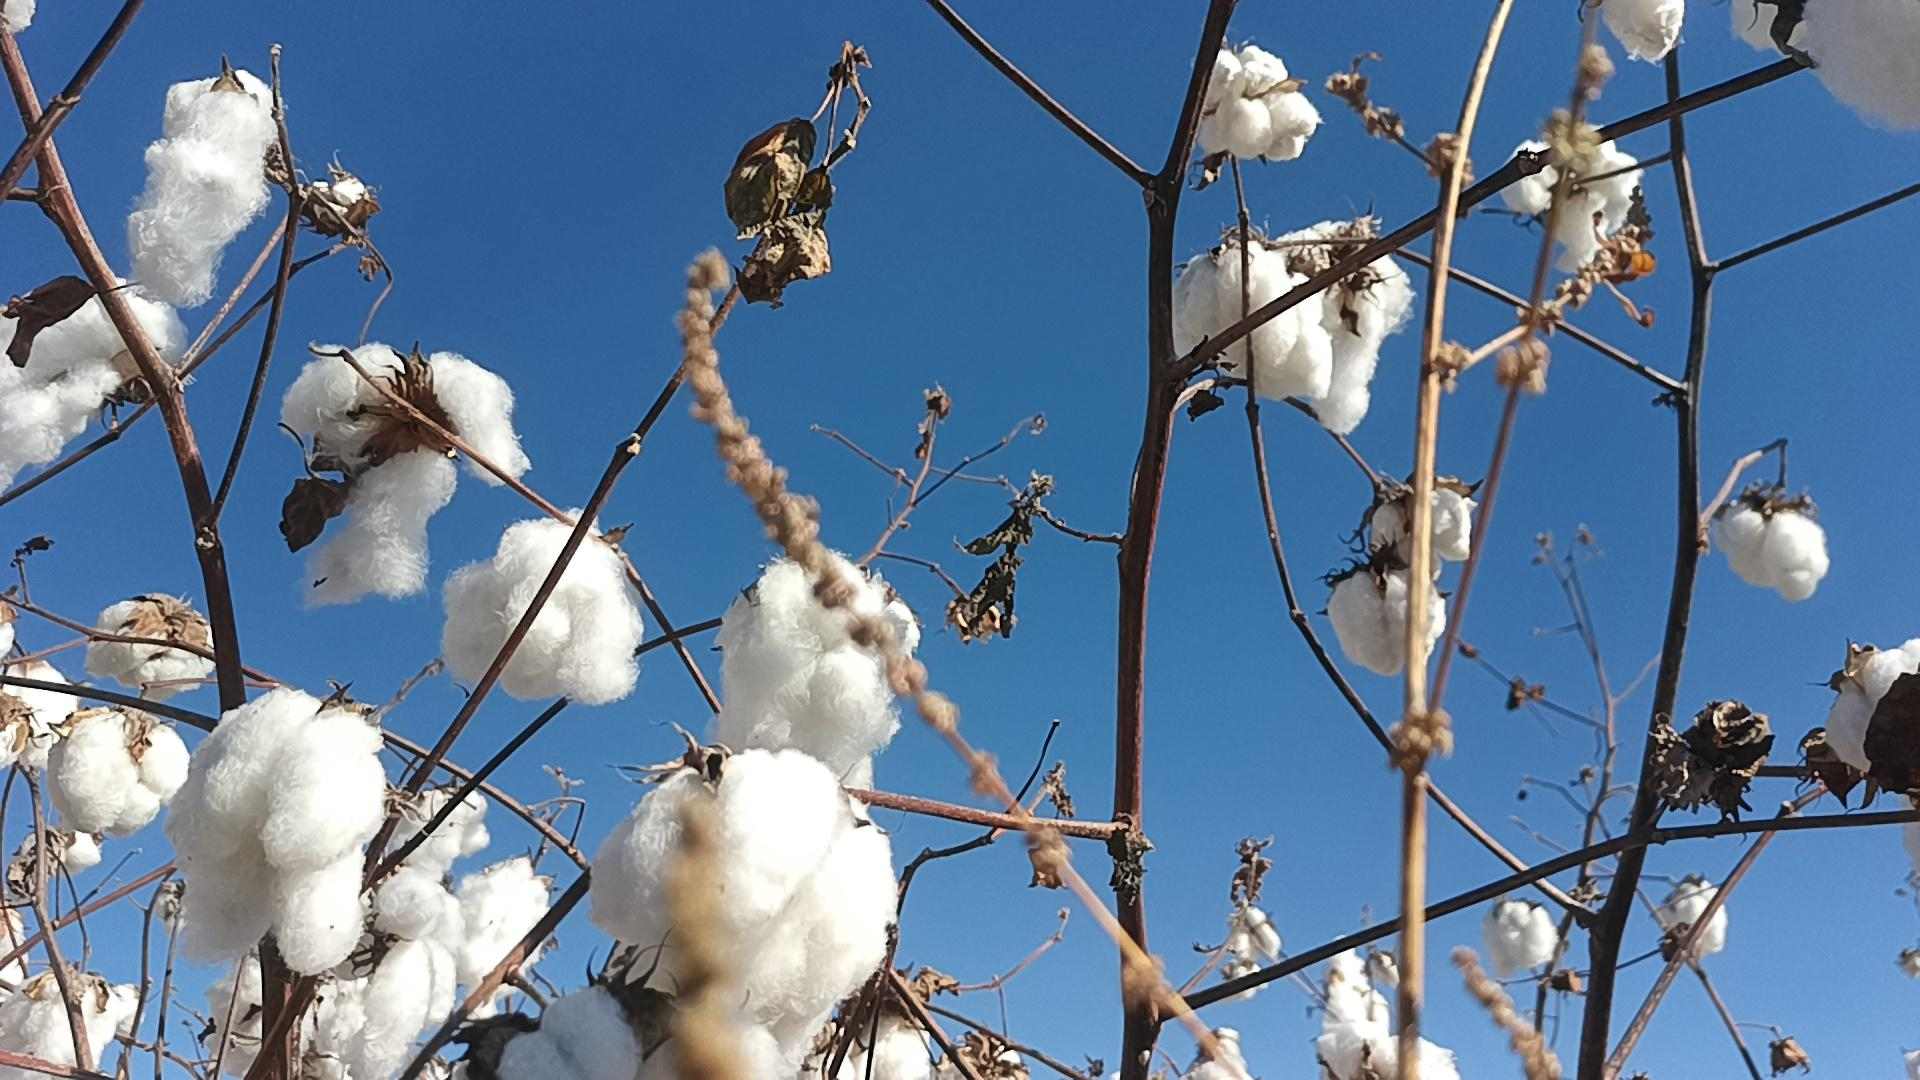cotton_ready: (593, 745, 903, 1080), (278, 343, 527, 611), (170, 691, 388, 975), (717, 560, 926, 811), (442, 506, 644, 705), (0, 284, 178, 493), (293, 876, 464, 1080), (131, 71, 276, 309), (448, 978, 779, 1080), (1275, 218, 1411, 430), (1168, 245, 1332, 405), (1506, 137, 1643, 270), (1788, 0, 1920, 136), (50, 705, 190, 831), (448, 853, 550, 1010), (1193, 45, 1317, 164), (0, 965, 128, 1080), (1325, 563, 1445, 673), (1828, 637, 1920, 775), (361, 786, 493, 881), (80, 600, 215, 691), (1718, 501, 1829, 601), (1311, 935, 1387, 1080), (795, 1004, 934, 1080), (190, 960, 276, 1076), (0, 646, 78, 767), (1370, 491, 1473, 574), (1598, 0, 1688, 61), (1730, 0, 1813, 55), (1371, 1033, 1462, 1080)
